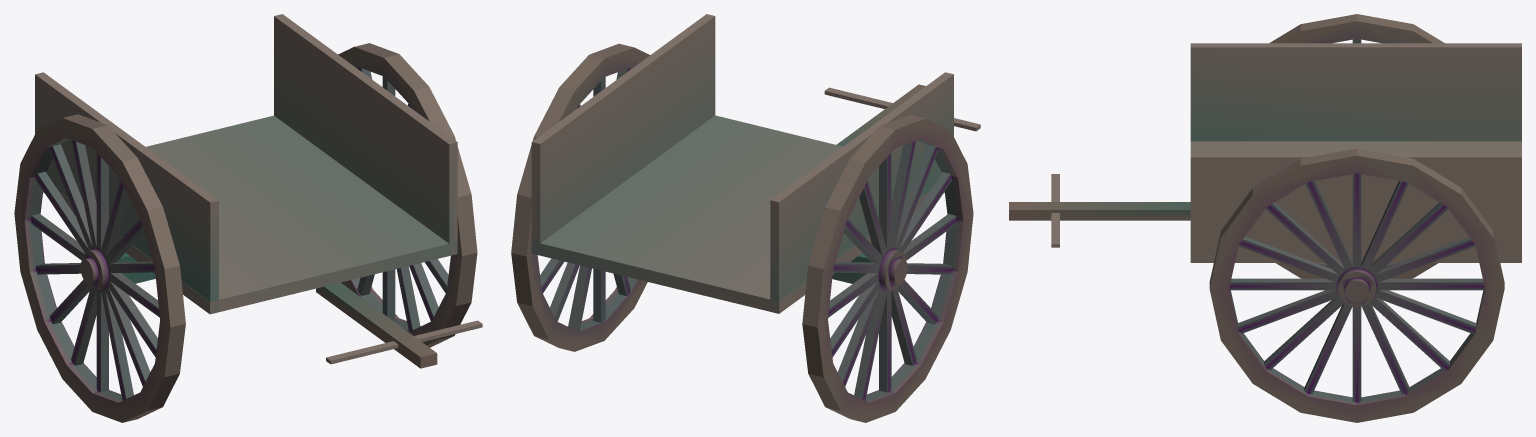
The picture shows the model from 3 angles, left to right: view 1: azimuth 30°, elevation 25°; view 2: azimuth 150°, elevation 25°; view 3: azimuth 270°, elevation 25°; orthographic projection. The views are drawn at different scales.
Parts seen in each view (by area): view 1: rim.001, floor, board, board.001, rim, drawbar, crossbar; view 2: rim.001, floor, board, rim, board.001, crossbar, drawbar; view 3: rim, board.001, board, floor, rim.001, drawbar, crossbar.
Part boxes in pixels (box(x1,y1,x2,y2)): rim.001: box(14, 114, 185, 422); floor: box(43, 115, 457, 314); board: box(274, 14, 457, 255); board.001: box(35, 72, 218, 313); rim: box(338, 43, 477, 347); drawbar: box(316, 282, 437, 368); crossbar: box(326, 320, 482, 364); rim.001: box(802, 114, 973, 422); floor: box(532, 115, 944, 313); board: box(531, 14, 715, 254); rim: box(511, 43, 649, 351); board.001: box(770, 72, 953, 312); crossbar: box(824, 87, 980, 131); drawbar: box(836, 84, 925, 146); rim: box(1209, 148, 1504, 422); board.001: box(1190, 43, 1521, 141); board: box(1190, 153, 1521, 262); floor: box(1190, 141, 1521, 153); rim.001: box(1269, 14, 1444, 278); drawbar: box(1009, 202, 1190, 220); crossbar: box(1051, 174, 1059, 247).
Size of the model in its own units: 2.03 by 1.73 by 3.
